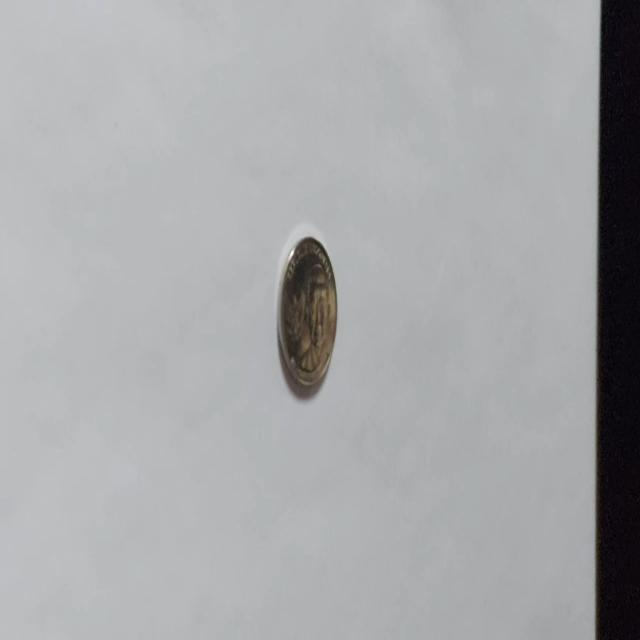seribu rupiah koin: (275, 233, 338, 392)
